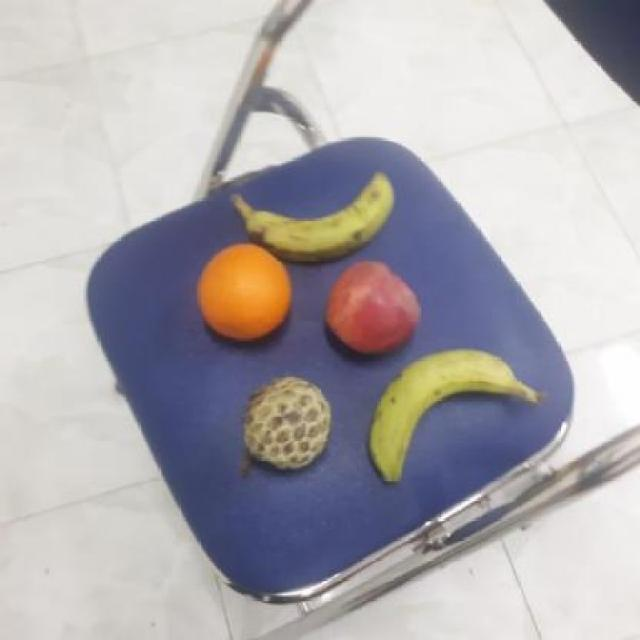apple: (321, 256, 425, 355)
banana: (368, 342, 522, 482), (234, 161, 392, 265)
oren: (194, 241, 291, 342)
sugar apple: (236, 375, 336, 473)
